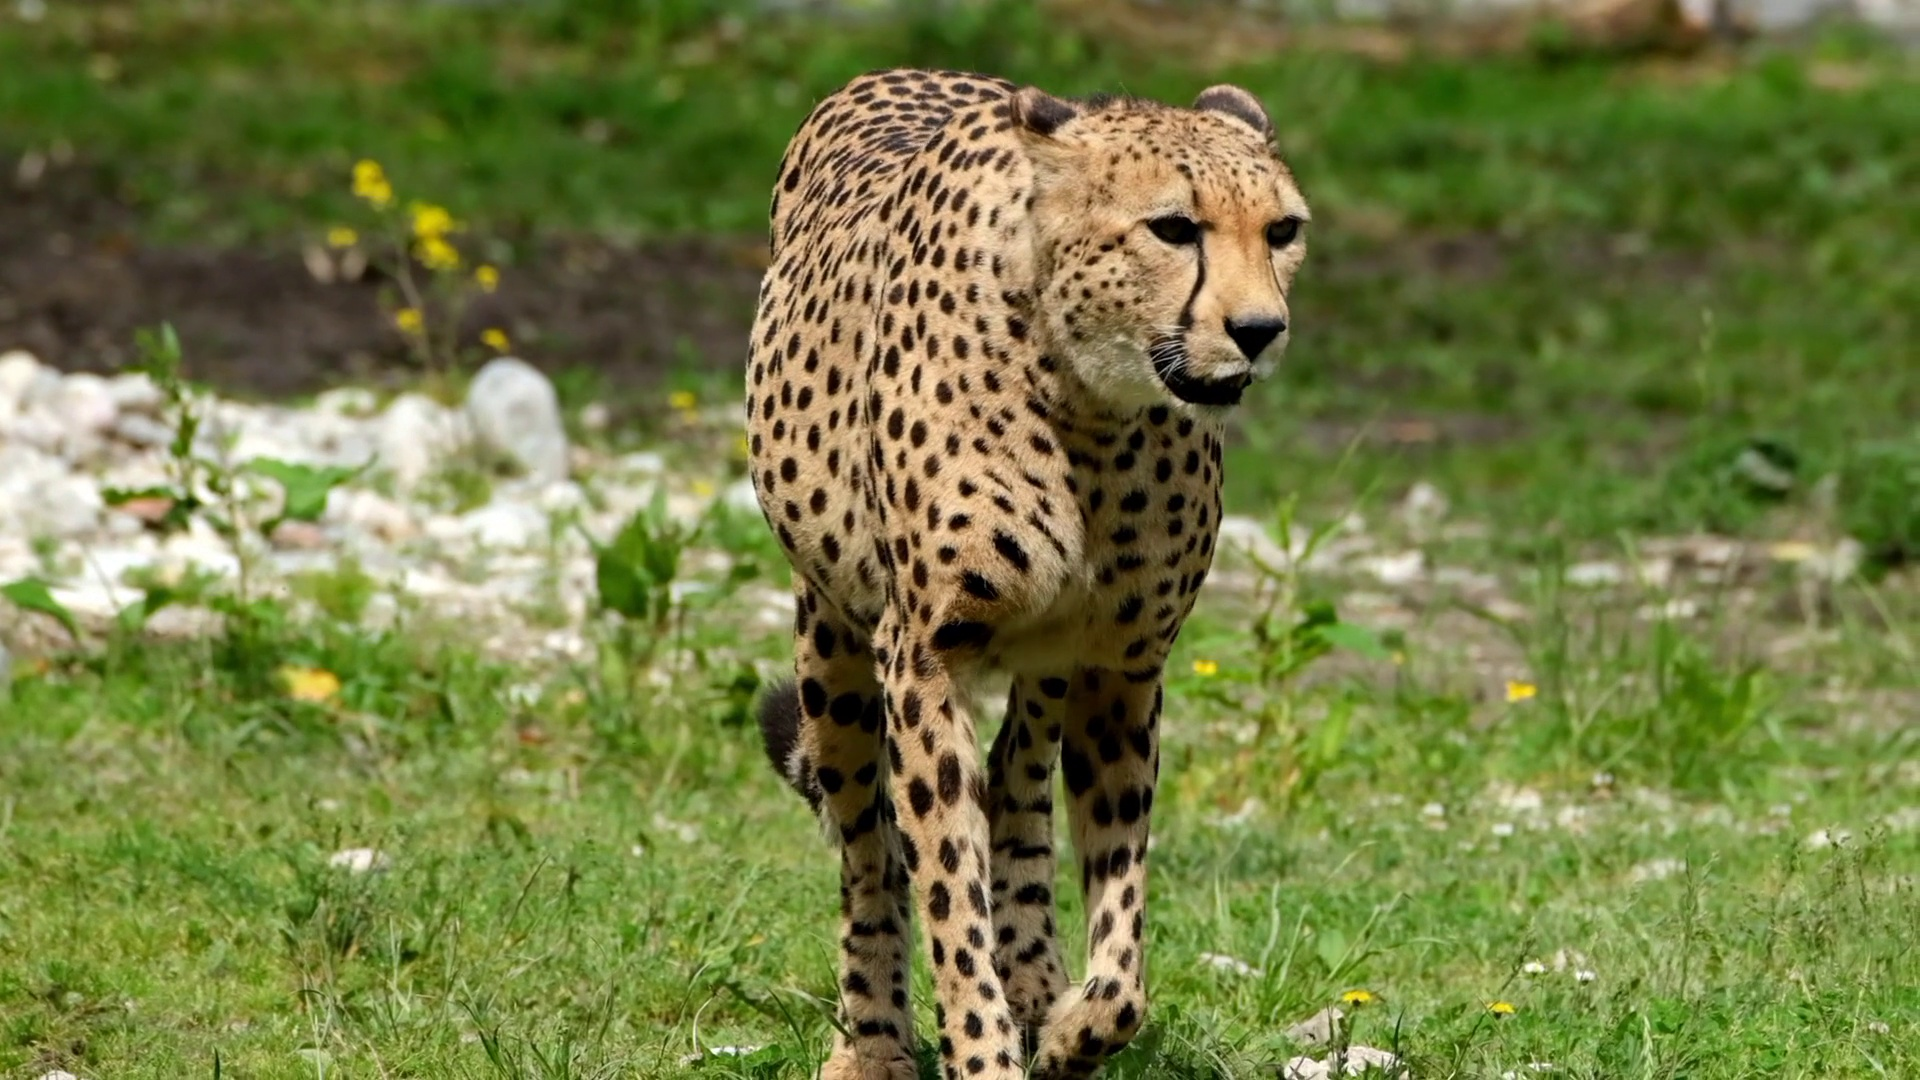Cheetah: (735, 62, 1320, 1080)
